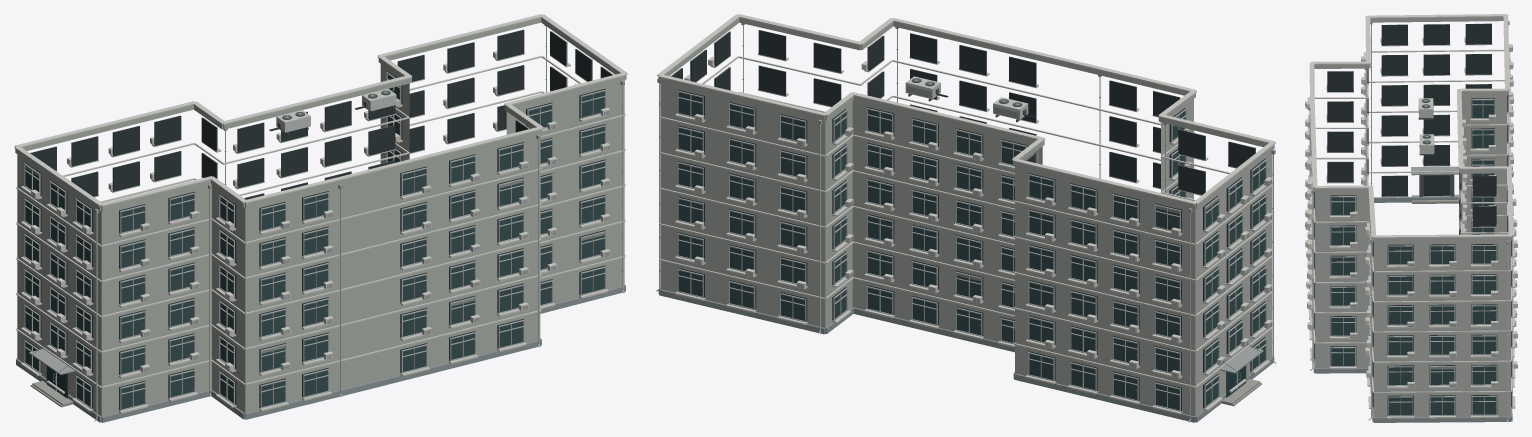
Rendered from osm_way_223859815.glb.
3 views of the same model, side by side, from view 1: azimuth 30°, elevation 25°; view 2: azimuth 150°, elevation 25°; view 3: azimuth 270°, elevation 25° (orthographic). The views are drawn at different scales.
Visible parts, largest first — view 1: Architecture | 13, Windows and facade details | 13, Roof services | 13, EXTERIOR::osm_way_223859815::rainwater and roof service deta, EXTERIOR::osm_way_223859815::inferred entry doors canopy and; view 2: Architecture | 13, Windows and facade details | 13, Roof services | 13, EXTERIOR::osm_way_223859815::rainwater and roof service deta, EXTERIOR::osm_way_223859815::inferred entry doors canopy and; view 3: Windows and facade details | 13, Architecture | 13, Roof services | 13, EXTERIOR::osm_way_223859815::rainwater and roof service deta, EXTERIOR::osm_way_223859815::inferred entry doors canopy and.
Part boxes in pixels (bbox=[...]): Architecture | 13: bbox=[15, 18, 626, 422]; Windows and facade details | 13: bbox=[21, 29, 613, 413]; Roof services | 13: bbox=[14, 14, 627, 206]; EXTERIOR::osm_way_223859815::rainwater and roof service deta: bbox=[94, 25, 624, 421]; EXTERIOR::osm_way_223859815::inferred entry doors canopy and: bbox=[29, 345, 74, 407]; Architecture | 13: bbox=[658, 18, 1274, 422]; Windows and facade details | 13: bbox=[670, 30, 1272, 414]; Roof services | 13: bbox=[657, 14, 1275, 204]; EXTERIOR::osm_way_223859815::rainwater and roof service deta: bbox=[656, 23, 1276, 422]; EXTERIOR::osm_way_223859815::inferred entry doors canopy and: bbox=[1220, 344, 1263, 406]; Windows and facade details | 13: bbox=[1305, 23, 1517, 418]; Architecture | 13: bbox=[1313, 17, 1512, 422]; Roof services | 13: bbox=[1309, 14, 1513, 238]; EXTERIOR::osm_way_223859815::rainwater and roof service deta: bbox=[1308, 21, 1512, 422]; EXTERIOR::osm_way_223859815::inferred entry doors canopy and: bbox=[1411, 166, 1458, 203].
Size of the model in its own units: 52.19 by 20.56 by 20.43.
